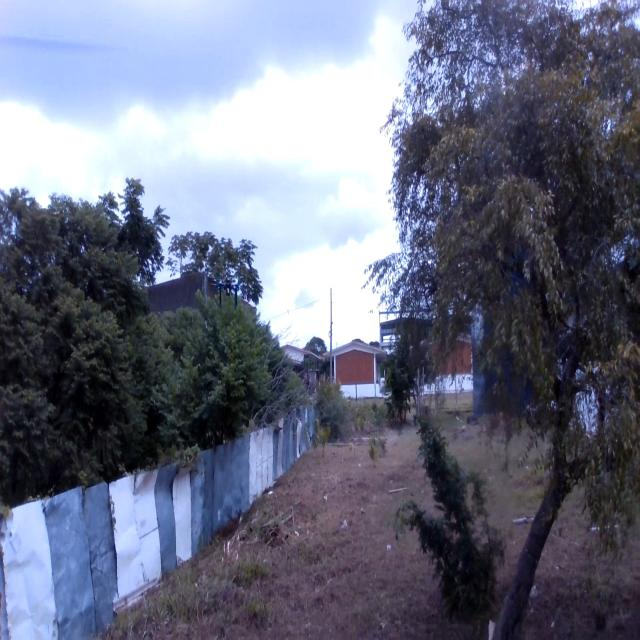-uav-: (209, 266, 250, 324)
